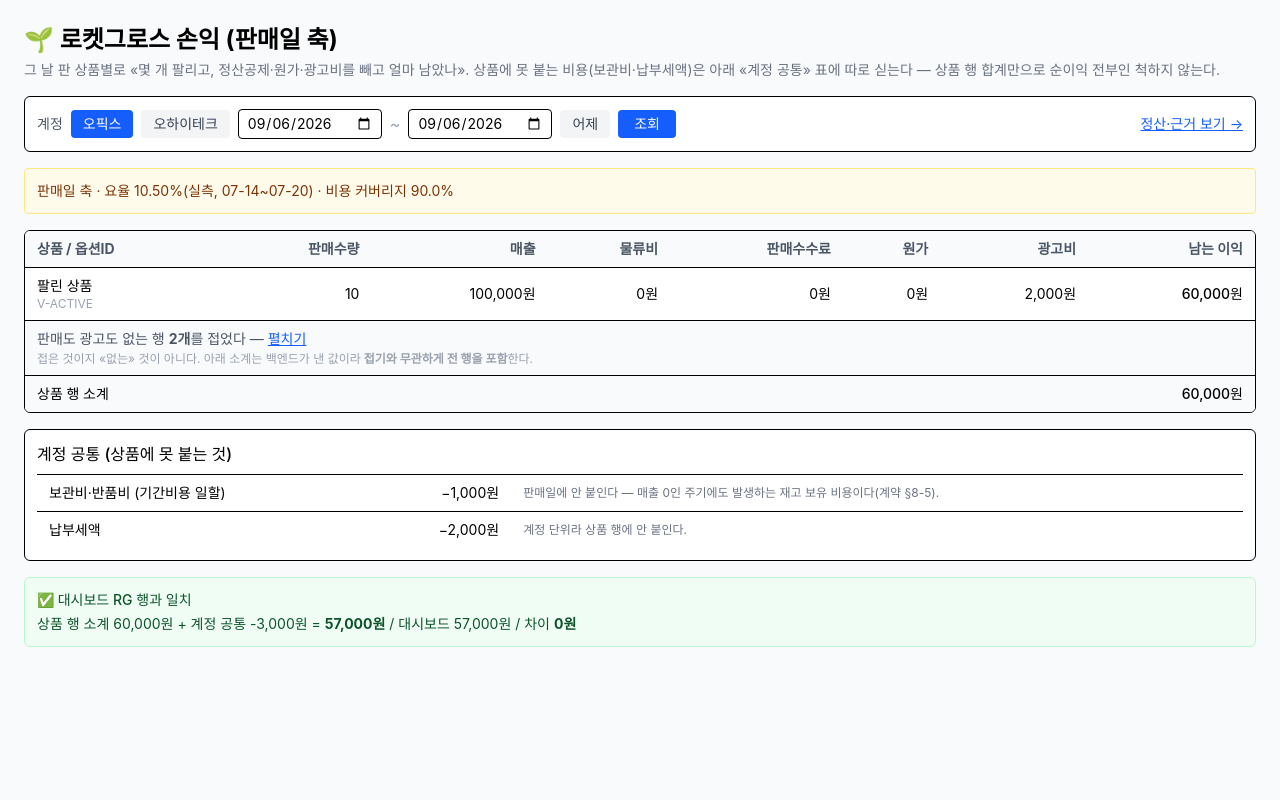
Scenario: RocketGrowthPnl — 판매도 광고도 없는 행 접기 › 펼치면 조용한 행이 실제로 나타나고, 다시 접으면 사라진다
Check: the text "팔린 상품" is shown, box top-left (37, 277), bottom-right (92, 294)
Click the button "펼치기": (287, 339) top-left (268, 329), bottom-right (306, 349)
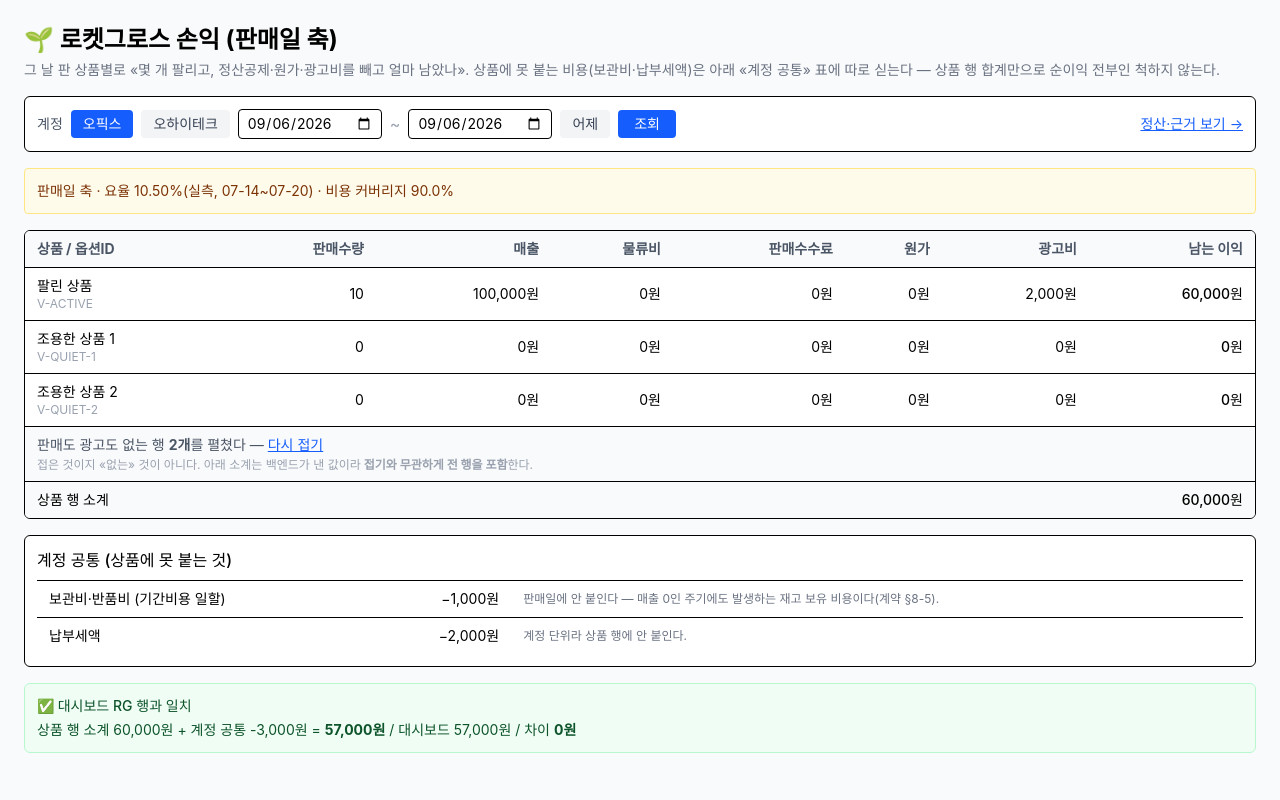
Check: the text "조용한 상품 1" is shown, box top-left (37, 330), bottom-right (115, 347)
Check: the text "조용한 상품 2" is shown, box top-left (37, 383), bottom-right (118, 400)
Click the button "다시 접기": (295, 445) top-left (268, 435), bottom-right (323, 455)
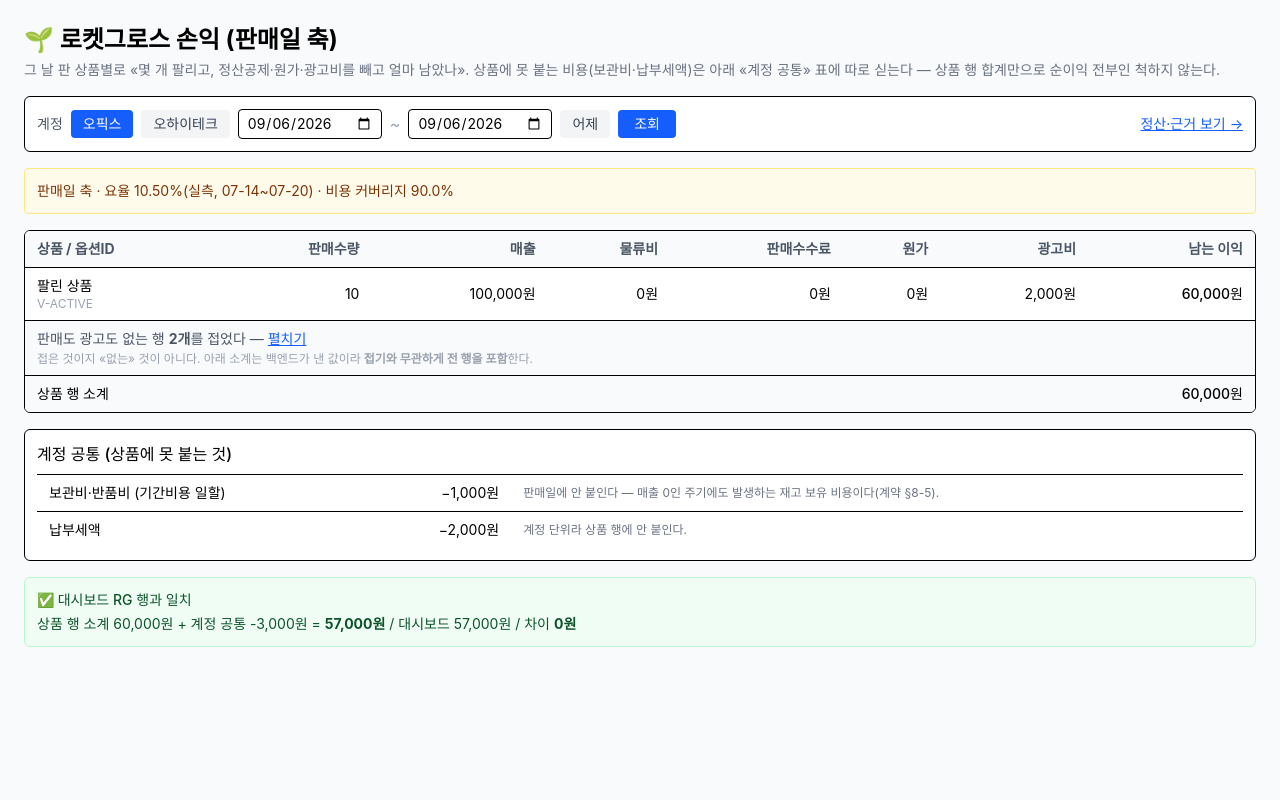
Check: the text "조용한 상품 1" is gone
